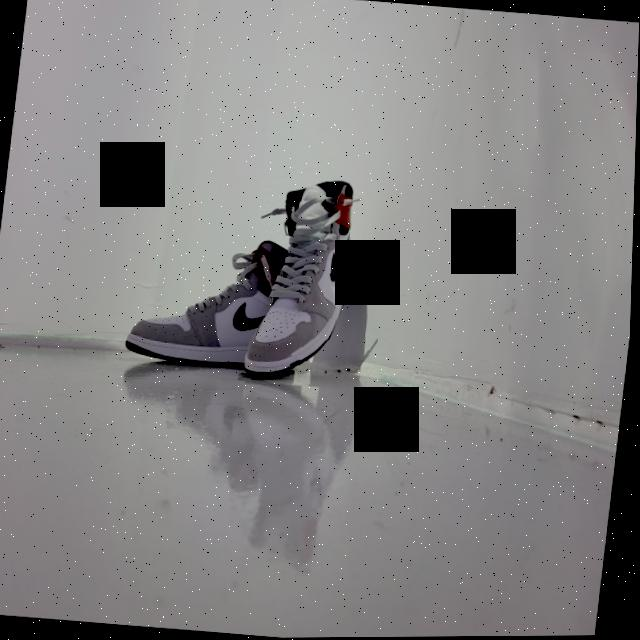shoe: (239, 162, 378, 391), (107, 221, 309, 378)
